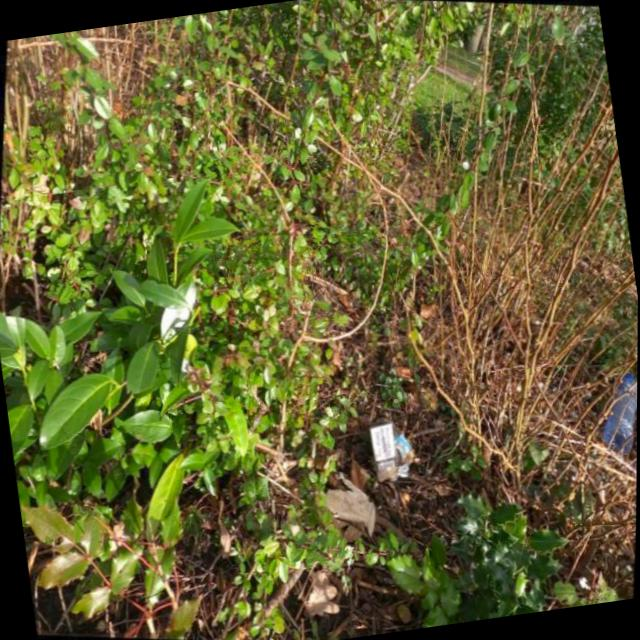Paper: (361, 417, 419, 487)
